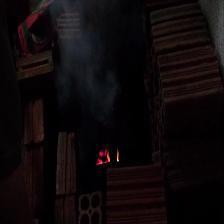fire: (83, 136, 116, 168)
